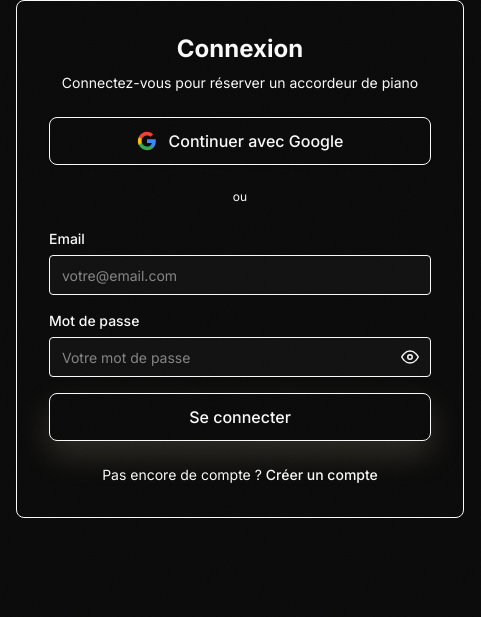
Login › bascule en mode inscription au clic sur 'Créer un compte'
Click the button "Créer un compte" at (322, 475), box [266,465,378,485]
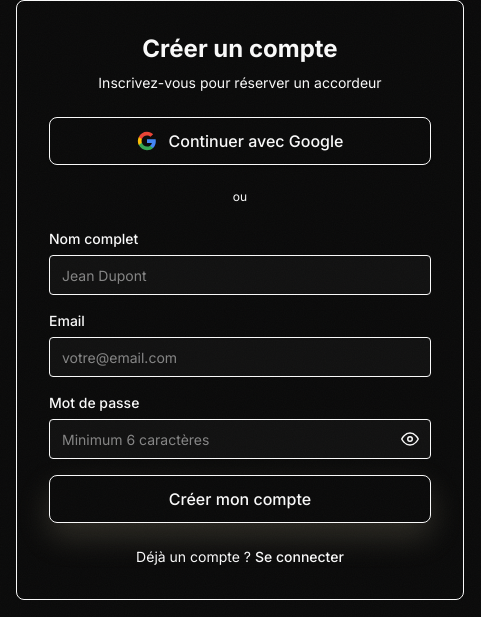
Check: the heading "Créer un compte" is shown, box [142,34,338,63]
Check: the field labelled "Nom complet" is shown, box [49,255,431,295]
Check: the button "Créer mon compte" is shown, box [49,475,431,523]
